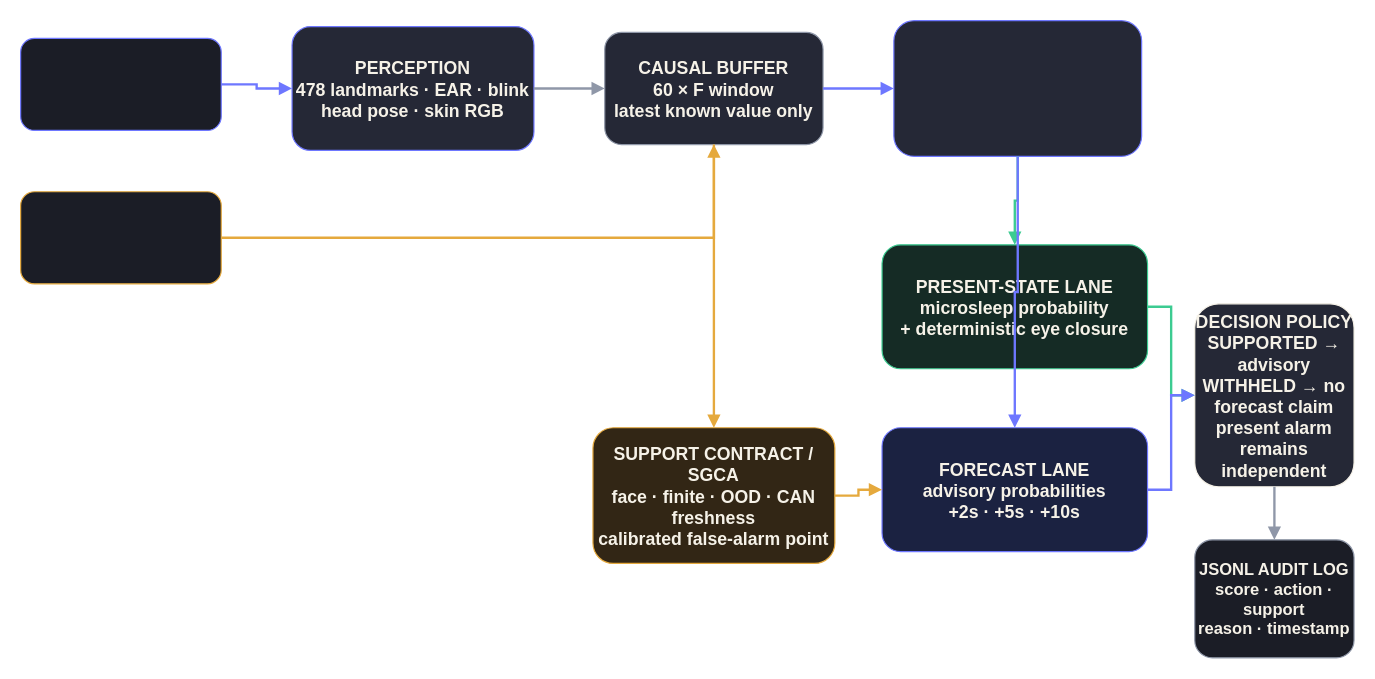
Image size: 1375x679. Some labels were removed from this diagram. Each missing label, with the centre of its shape:
"CAMERA STREAM RGB or NIR frames" goes at point 120,83.
"OPTIONAL CAN speed · steering · lane" goes at point 120,237.
"TEMPORAL MODEL Conv1D → GRU → heads present +2s +5s +10s" goes at point 1017,87.
